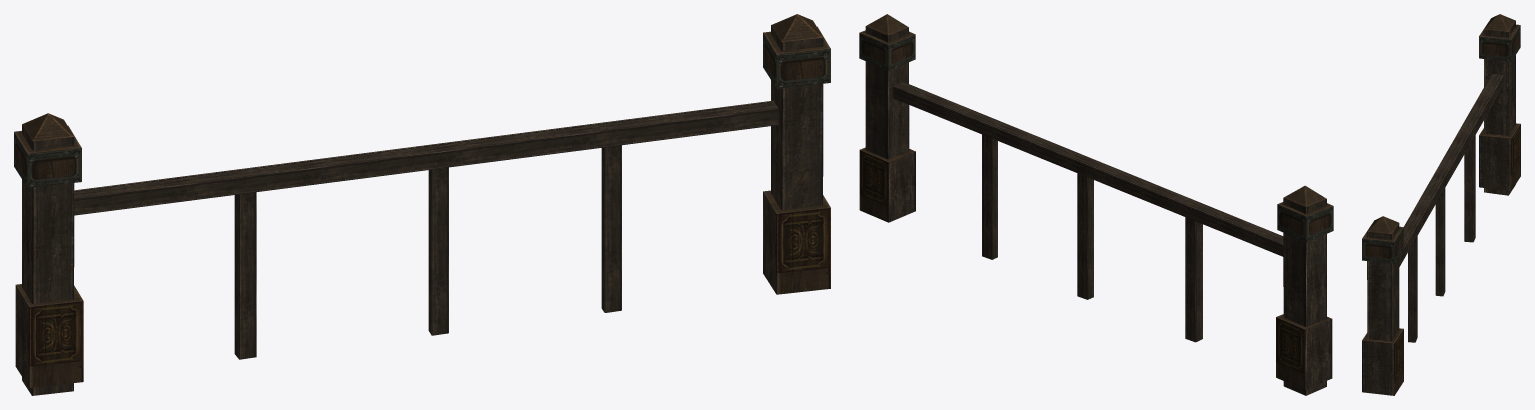
File: rail_crack05.fbx
The picture shows the model from 3 angles, left to right: view 1: azimuth 30°, elevation 25°; view 2: azimuth 150°, elevation 25°; view 3: azimuth 270°, elevation 25°; orthographic projection. The views are drawn at different scales.
Parts seen in each view (by area): view 1: ship_rail_05; view 2: ship_rail_05; view 3: ship_rail_05.
Boxes of the visible parts, x1,y1,x2,y2 form: ship_rail_05: (14, 14, 830, 395); ship_rail_05: (859, 14, 1333, 395); ship_rail_05: (1362, 14, 1520, 395).
Size of the model in its own units: 9.61 by 3.57 by 2.88.
